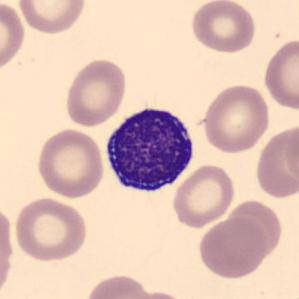Lymphocyte: (100, 98, 198, 198)
RBC: (200, 80, 272, 155), (11, 195, 90, 263), (34, 127, 106, 199), (63, 56, 129, 128), (197, 216, 268, 280), (170, 162, 237, 229), (188, 0, 258, 54), (254, 122, 298, 201), (261, 36, 298, 112), (16, 0, 88, 36), (0, 1, 28, 75), (83, 272, 154, 299), (0, 200, 16, 297), (281, 119, 299, 190), (122, 289, 195, 299)
